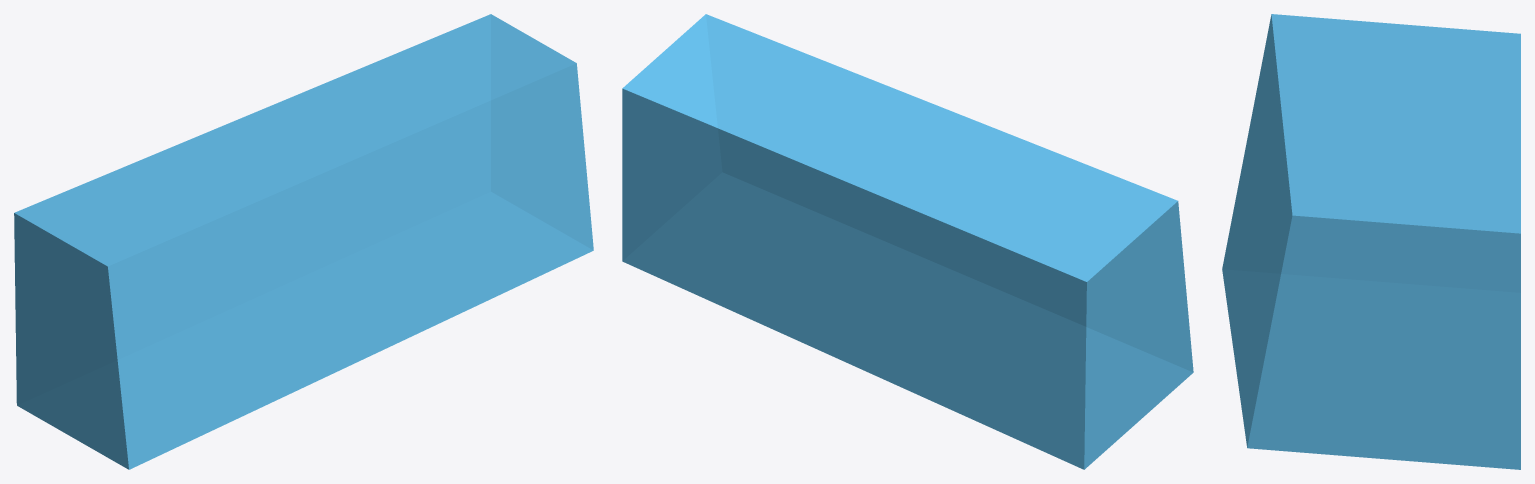
Rendered from Event_421115418_HErechit_86.fbx.
3 views of the same model, side by side, from view 1: azimuth 30°, elevation 25°; view 2: azimuth 150°, elevation 25°; view 3: azimuth 270°, elevation 25° (orthographic). The views are drawn at different scales.
Parts seen in each view (by area): view 1: Model; view 2: Model; view 3: Model.
Part boxes in pixels (left/top/right/bottom): Model: left=14, top=14, right=593, bottom=469; Model: left=622, top=14, right=1193, bottom=469; Model: left=1222, top=14, right=1520, bottom=469.
Size of the model in its own units: 1.02 by 0.5918 by 0.4159.
